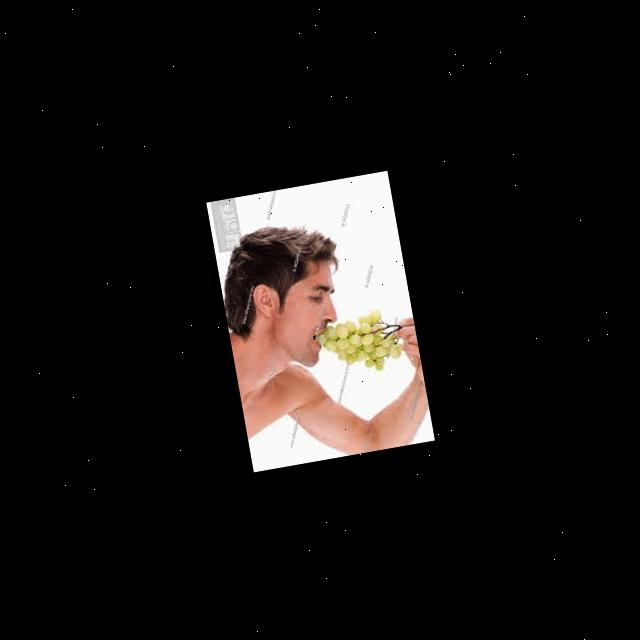grape: (312, 308, 409, 380)
